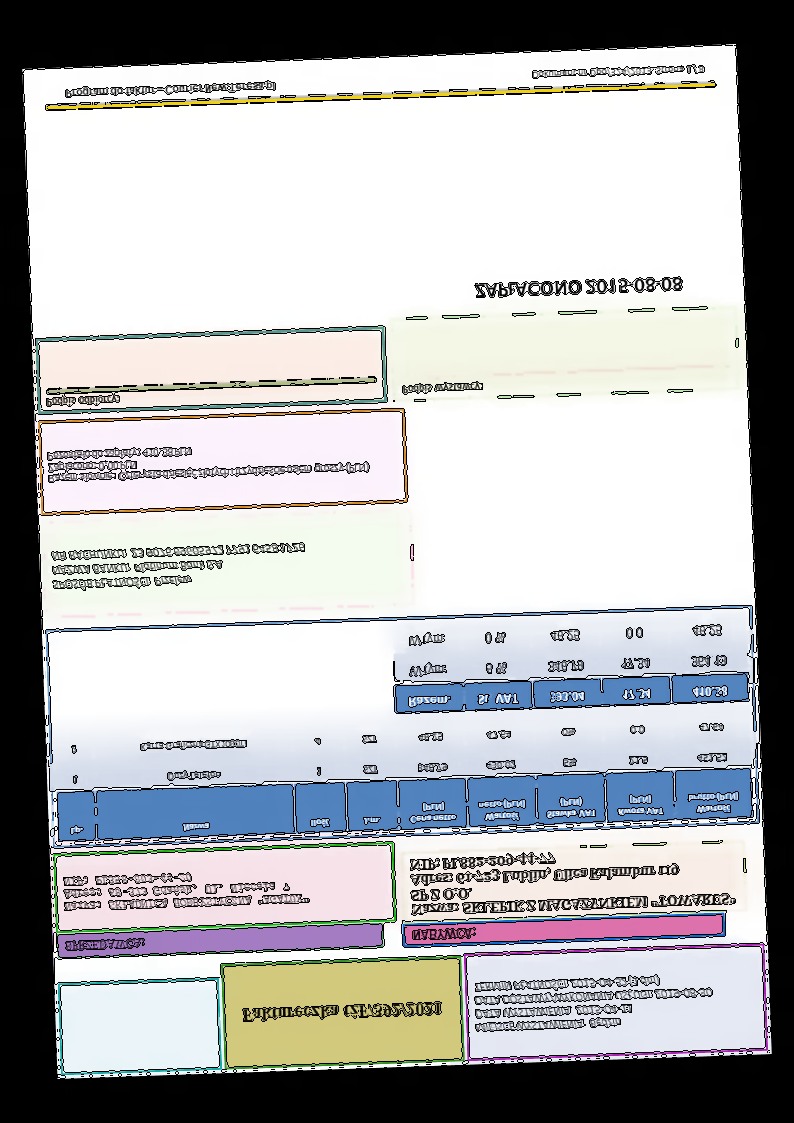Table: (53, 705, 754, 844), (391, 610, 750, 715)
TextBox: (407, 846, 738, 917), (472, 971, 715, 1034), (46, 439, 371, 486), (49, 541, 308, 593), (61, 867, 310, 915), (241, 1000, 443, 1025), (474, 276, 683, 300), (62, 78, 277, 101), (530, 61, 706, 83), (63, 935, 148, 954), (400, 379, 484, 397), (44, 392, 121, 409), (411, 926, 477, 943)
